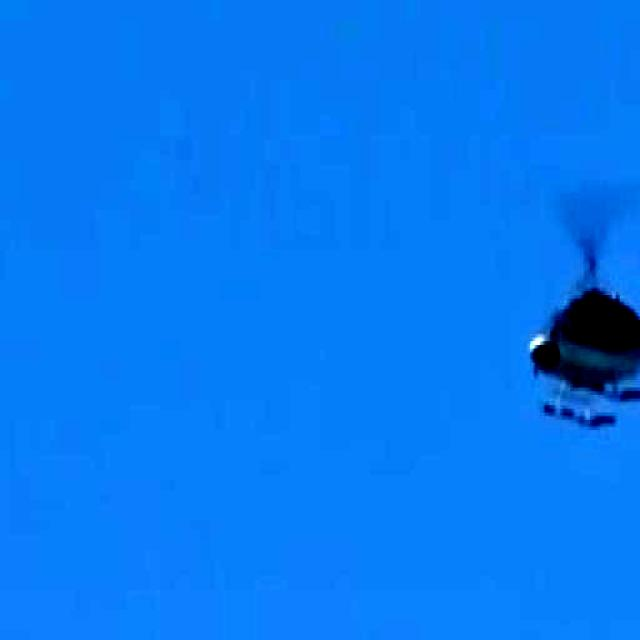drone: (502, 222, 640, 426)
